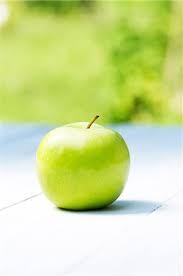apple: (37, 120, 134, 216)
